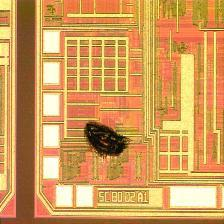PARTICLE: (80, 112, 136, 168)
